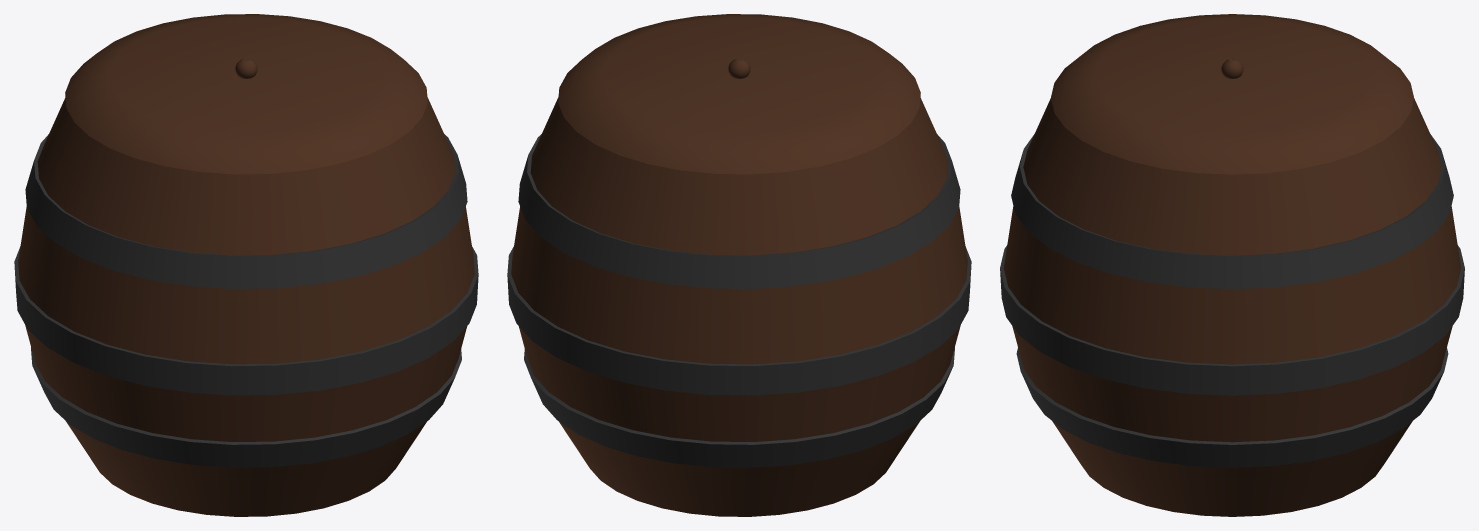
Rendered from Barile L 2 .fbx.
3 views of the same model, side by side, from view 1: azimuth 30°, elevation 25°; view 2: azimuth 150°, elevation 25°; view 3: azimuth 270°, elevation 25° (orthographic).
Parts seen in each view (by area): view 1: S. Barrel 2.003; view 2: S. Barrel 2.003; view 3: S. Barrel 2.003.
Boxes of the visible parts, x1,y1,x2,y2 form: S. Barrel 2.003: (14,14,478,516); S. Barrel 2.003: (507,14,971,516); S. Barrel 2.003: (1000,14,1464,516).
Bounding box in the file's own units: 117 × 108 × 117.
